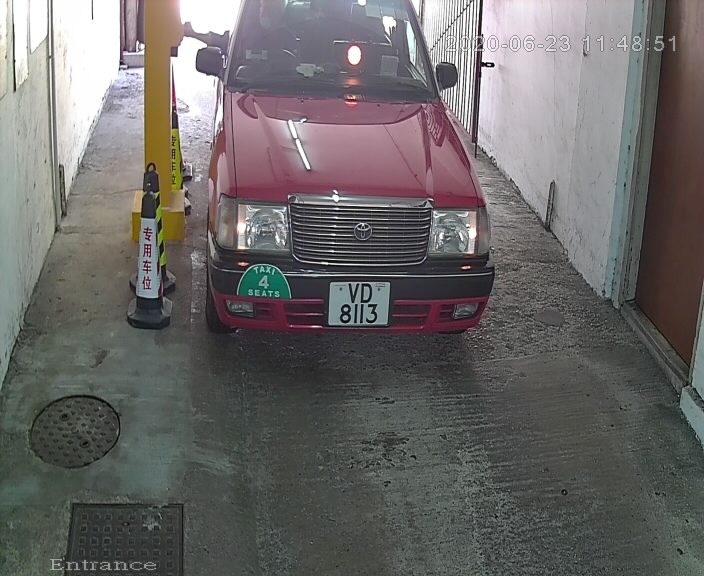taxi: (170, 2, 526, 371)
taxi_mark: (228, 254, 305, 309)
